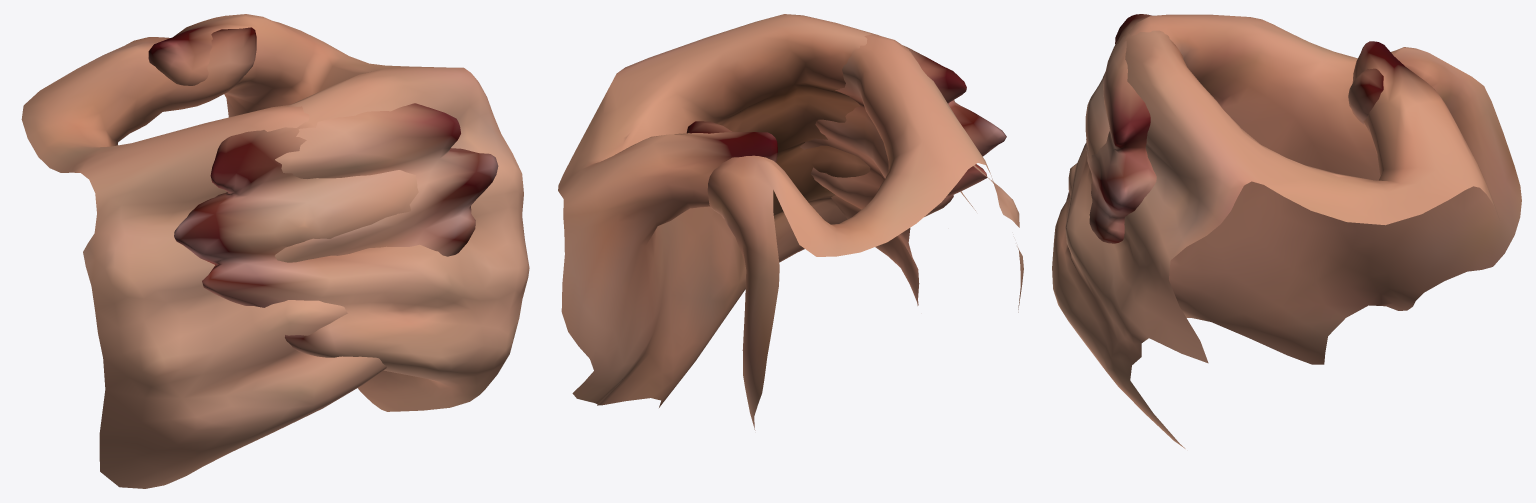
File: dri-maos.glb
The picture shows the model from 3 angles, left to right: view 1: azimuth 30°, elevation 25°; view 2: azimuth 150°, elevation 25°; view 3: azimuth 270°, elevation 25°; orthographic projection. The views are drawn at different scales.
Parts seen in each view (by area): view 1: Dir, Esq; view 2: Esq, Dir; view 3: Dir, Esq.
Boxes of the visible parts, left/top/right/bottom form: Dir: left=21, top=27, right=498, bottom=488; Esq: left=148, top=14, right=529, bottom=411; Esq: left=558, top=14, right=1006, bottom=407; Dir: left=686, top=34, right=1023, bottom=430; Dir: left=1068, top=14, right=1521, bottom=364; Esq: left=1052, top=14, right=1499, bottom=448.
Size of the model in its own units: 0.1275 by 0.1149 by 0.1263.
